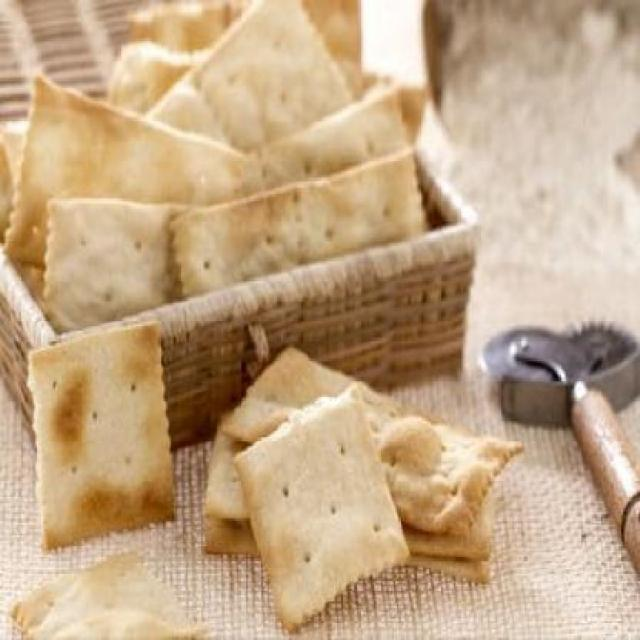Cracker packaged: (235, 388, 414, 624), (28, 334, 196, 554)
